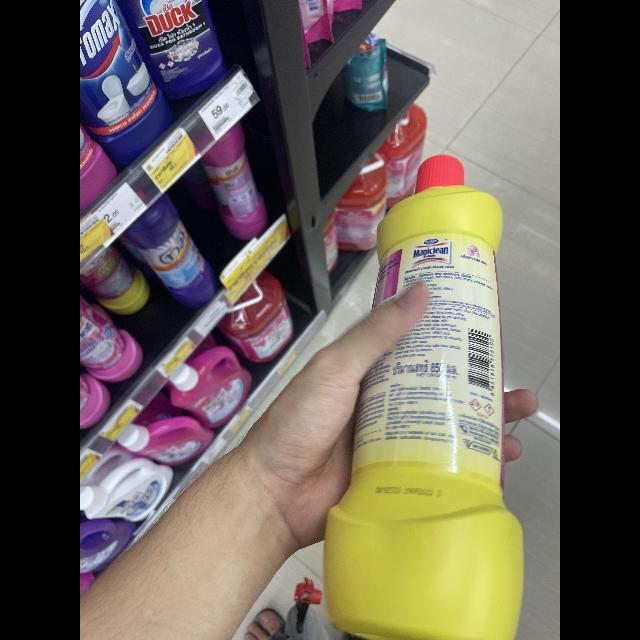chemical_plastic_bottle: (318, 146, 530, 640)
